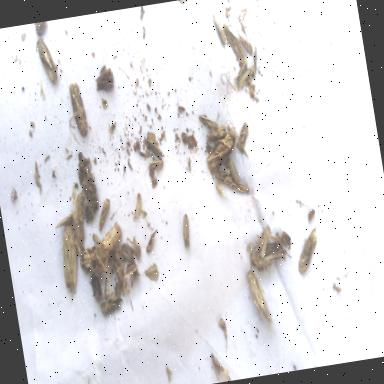pbw: (56, 224, 84, 301), (245, 266, 272, 325), (203, 130, 240, 170), (63, 80, 88, 136), (68, 190, 92, 248), (293, 227, 323, 273), (248, 236, 288, 270), (34, 36, 58, 84), (224, 25, 249, 70), (108, 243, 129, 292), (99, 221, 125, 254), (91, 230, 109, 270), (78, 243, 102, 273), (204, 118, 234, 142), (209, 350, 231, 380), (256, 224, 276, 255), (94, 196, 113, 228), (224, 174, 250, 195), (234, 121, 252, 149), (99, 295, 124, 314), (146, 134, 164, 160), (130, 188, 144, 220), (142, 228, 160, 252), (180, 213, 192, 248), (147, 158, 166, 180), (212, 12, 225, 44), (237, 30, 253, 55), (236, 67, 254, 89), (226, 157, 240, 184), (232, 62, 250, 83), (199, 112, 218, 130), (54, 211, 74, 228), (212, 165, 231, 182), (228, 124, 240, 140)
